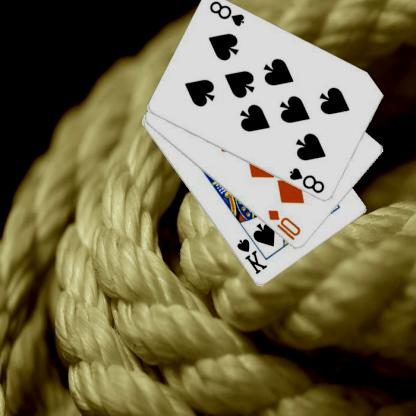10D: (267, 207, 304, 242)
8S: (288, 165, 328, 195), (209, 0, 248, 29)
KS: (235, 236, 270, 276)
